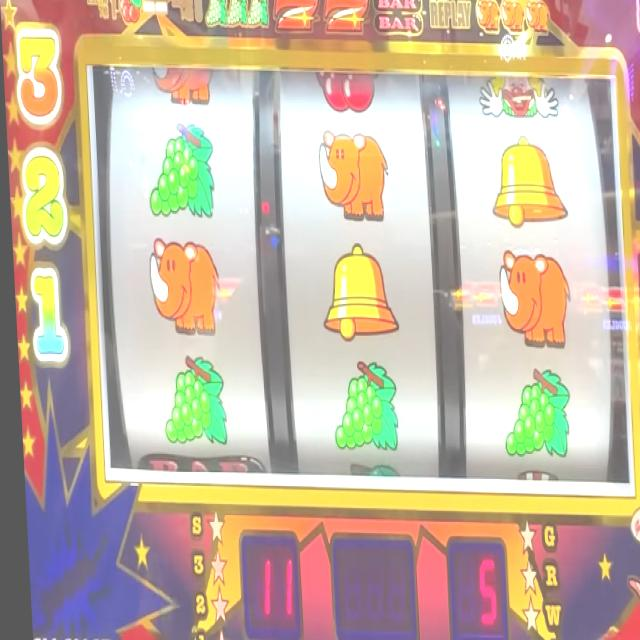bar: (372, 0, 425, 36)
bell: (316, 242, 396, 342), (486, 132, 566, 228)
cherry: (313, 66, 381, 112), (118, 0, 142, 23)
clown: (475, 71, 558, 117)
display: (81, 61, 631, 499)
elephant: (144, 234, 220, 336), (494, 246, 570, 348), (314, 126, 389, 222), (152, 64, 215, 106), (476, 0, 501, 34), (501, 1, 526, 33), (526, 0, 551, 32)
grape: (143, 118, 214, 220), (497, 366, 569, 459), (326, 356, 395, 451), (158, 354, 224, 446), (202, 0, 227, 26), (247, 1, 270, 27), (226, 1, 247, 27)
z: (321, 0, 370, 34), (271, 0, 321, 32)
